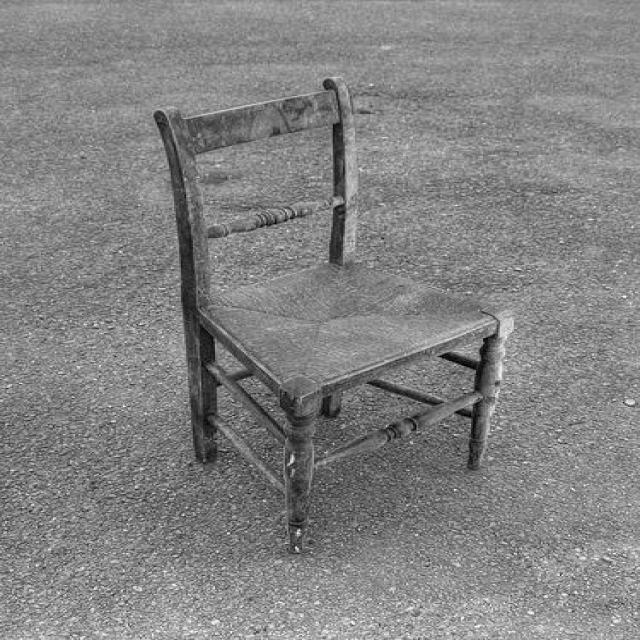chair: (146, 72, 516, 558)
